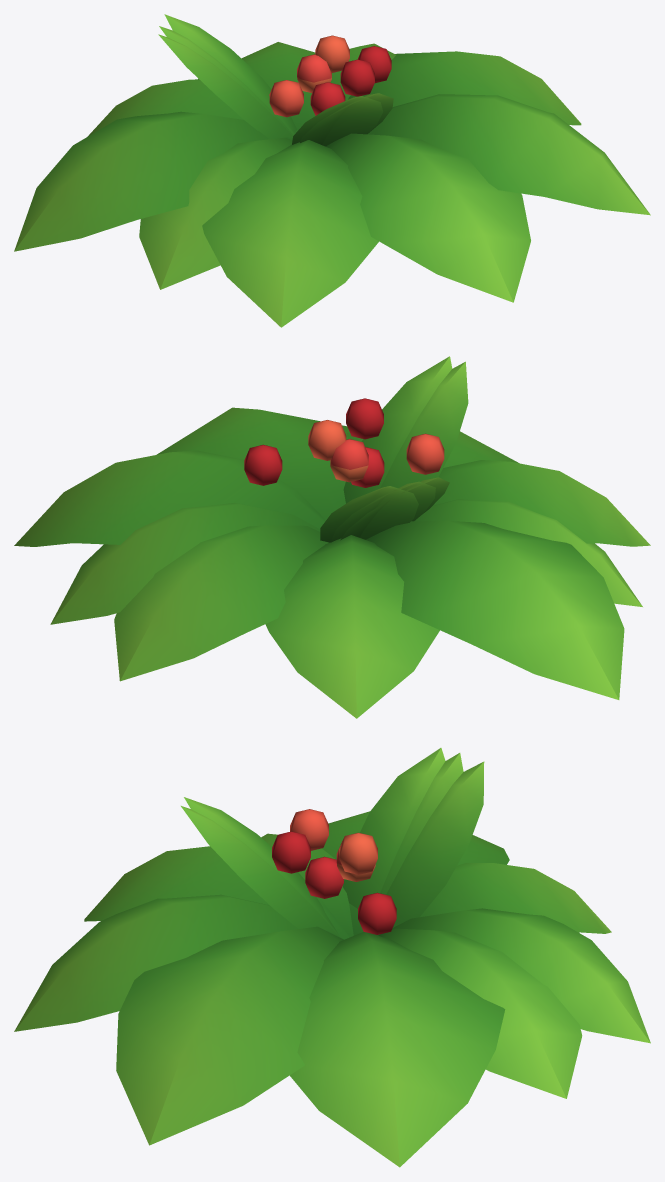
File: Fern_Flowers.obj
The picture shows the model from 3 angles, top to bottom: view 1: azimuth 30°, elevation 25°; view 2: azimuth 150°, elevation 25°; view 3: azimuth 270°, elevation 25°; orthographic projection. The views are drawn at different scales.
Parts seen in each view (by area): view 1: Fern_Flowers; view 2: Fern_Flowers; view 3: Fern_Flowers.
Boxes of the visible parts, box(x1,y1,x2,y2) form: Fern_Flowers: box(14, 14, 650, 327); Fern_Flowers: box(14, 356, 650, 718); Fern_Flowers: box(14, 748, 650, 1167).
Bounding box in the file's own units: 0.9972 × 0.2987 × 0.8718.
1 material, 1 textured.
